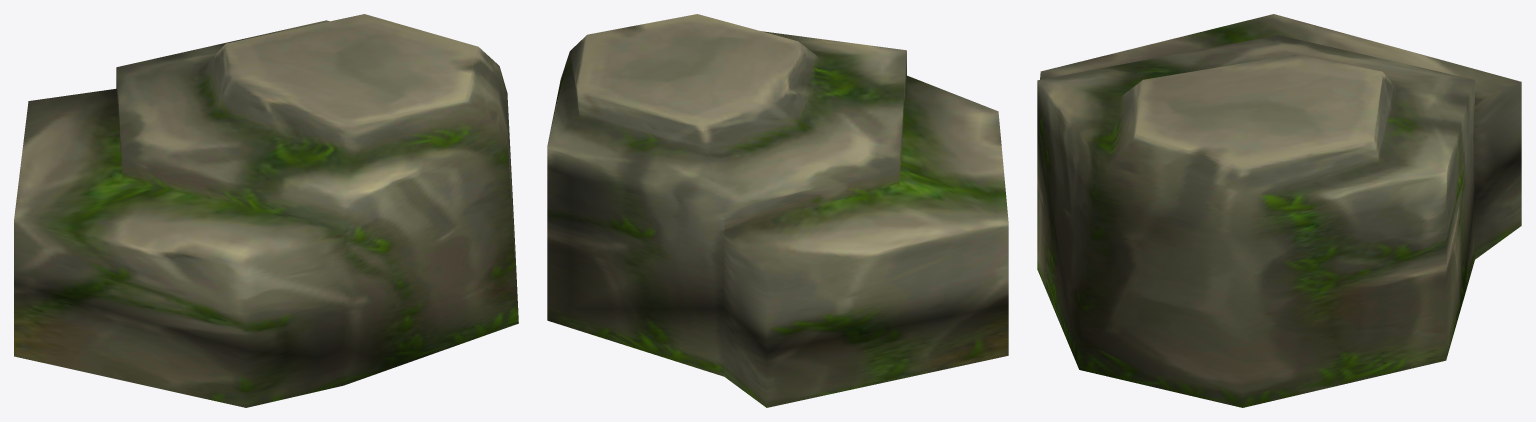
File: RockFormation_4_5 (28).fbx
The picture shows the model from 3 angles, left to right: view 1: azimuth 30°, elevation 25°; view 2: azimuth 150°, elevation 25°; view 3: azimuth 270°, elevation 25°; orthographic projection. The views are drawn at different scales.
Parts seen in each view (by area): view 1: RockFormation_4_5 (28); view 2: RockFormation_4_5 (28); view 3: RockFormation_4_5 (28).
Part boxes in pixels (bbox=[...]): RockFormation_4_5 (28): bbox=[14, 14, 518, 407]; RockFormation_4_5 (28): bbox=[547, 14, 1008, 407]; RockFormation_4_5 (28): bbox=[1037, 14, 1521, 407].
Bounding box in the file's own units: 1313 × 544 × 1075.
